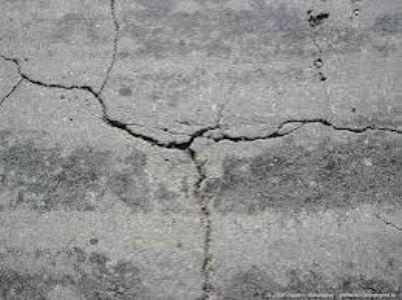crack: (2, 55, 185, 151), (184, 115, 402, 153), (183, 149, 218, 300), (92, 0, 121, 103)
